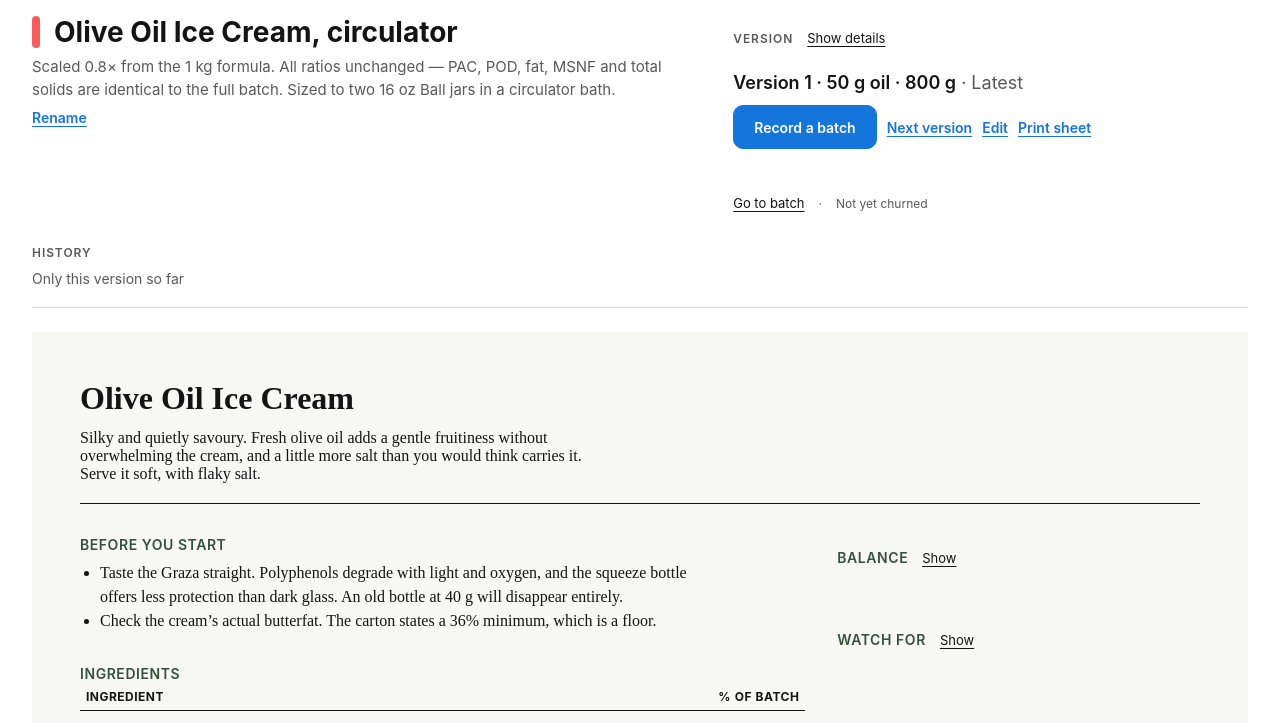
Scenario: a removed step takes its lines with it, struck in its own place (decision 51, plan 05) › strikes the five lines of 'Gum slurry' under Removed, reads 666.0 g, and restores them with the step
Click the button "Next version" at (929, 127), box [887,105,972,149]
(page scrolled)
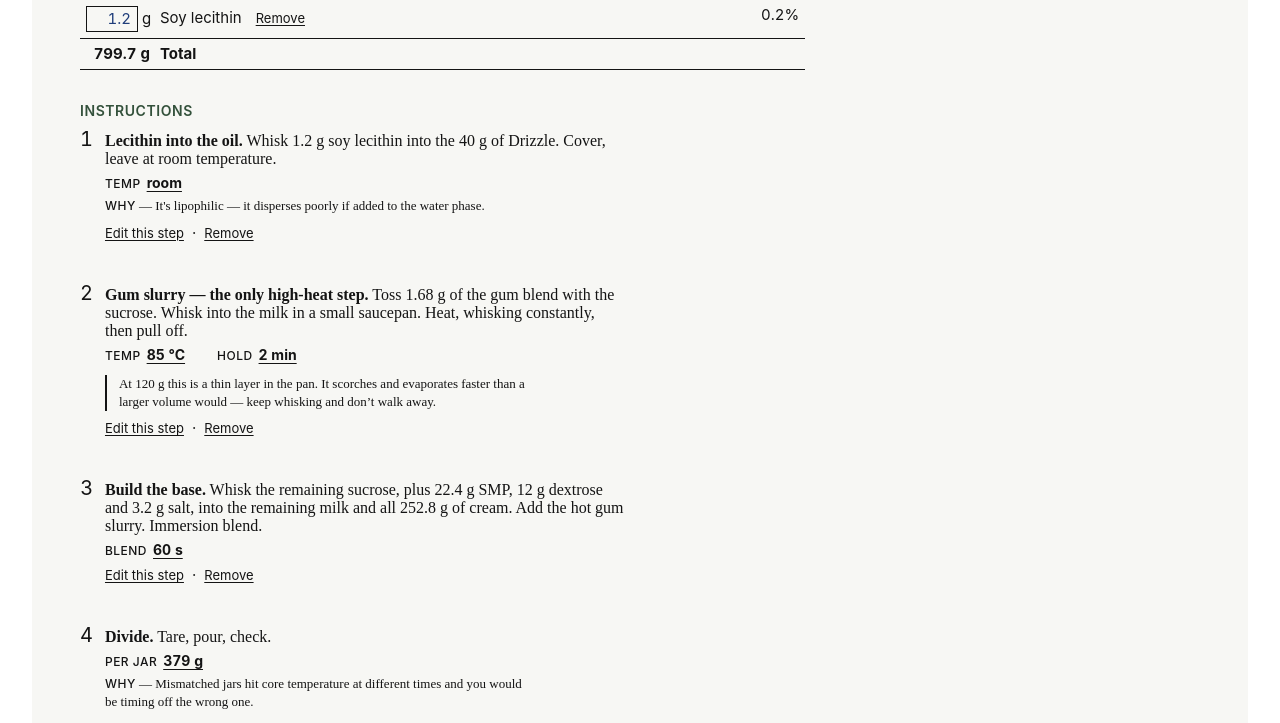
Click the button "Remove" below "85 °C" at (229, 429), box [204,417,254,441]
(page scrolled)
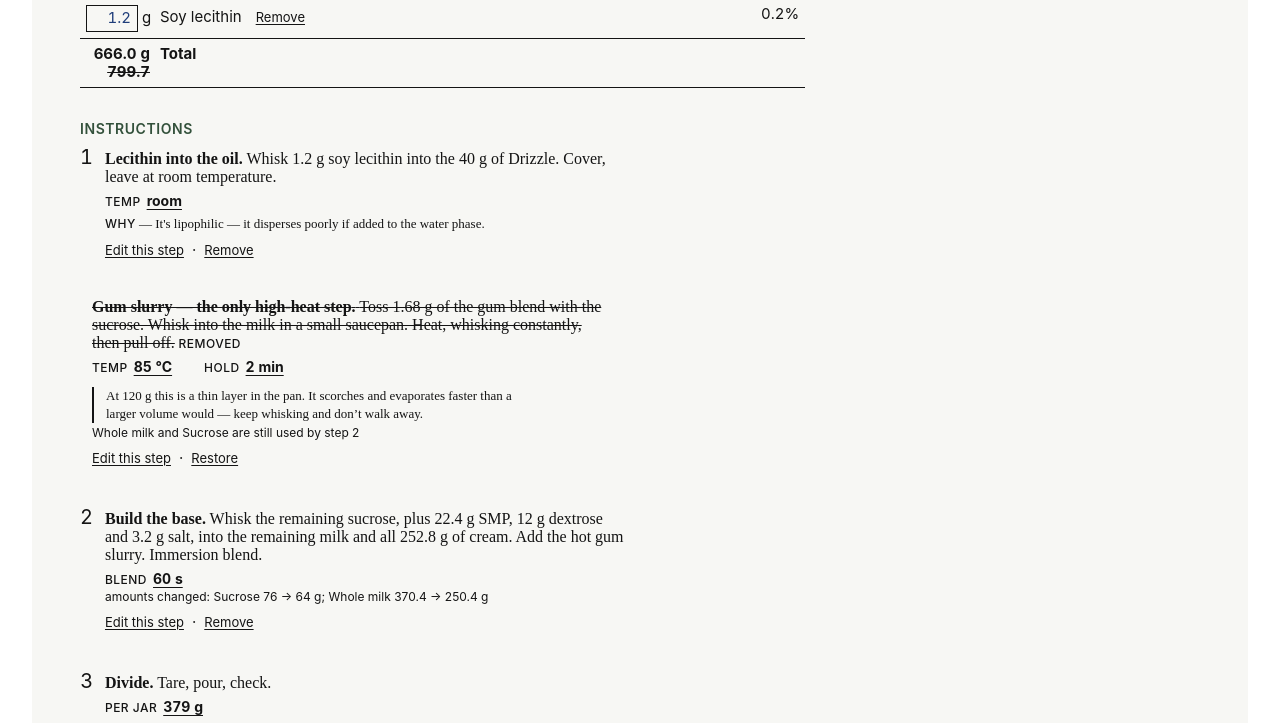
Check: the text with class "method-step__flag" shows "Whole milk", box [92,425,360,440]
Check: the text with class "method-step__flag" shows "Sucrose", box [92,425,360,440]
Check: the text with class "method-step__flag" shows "still used by step 2", box [92,425,360,440]
Click the button "Restore" at (215, 458), box [191,446,238,470]
(page scrolled)
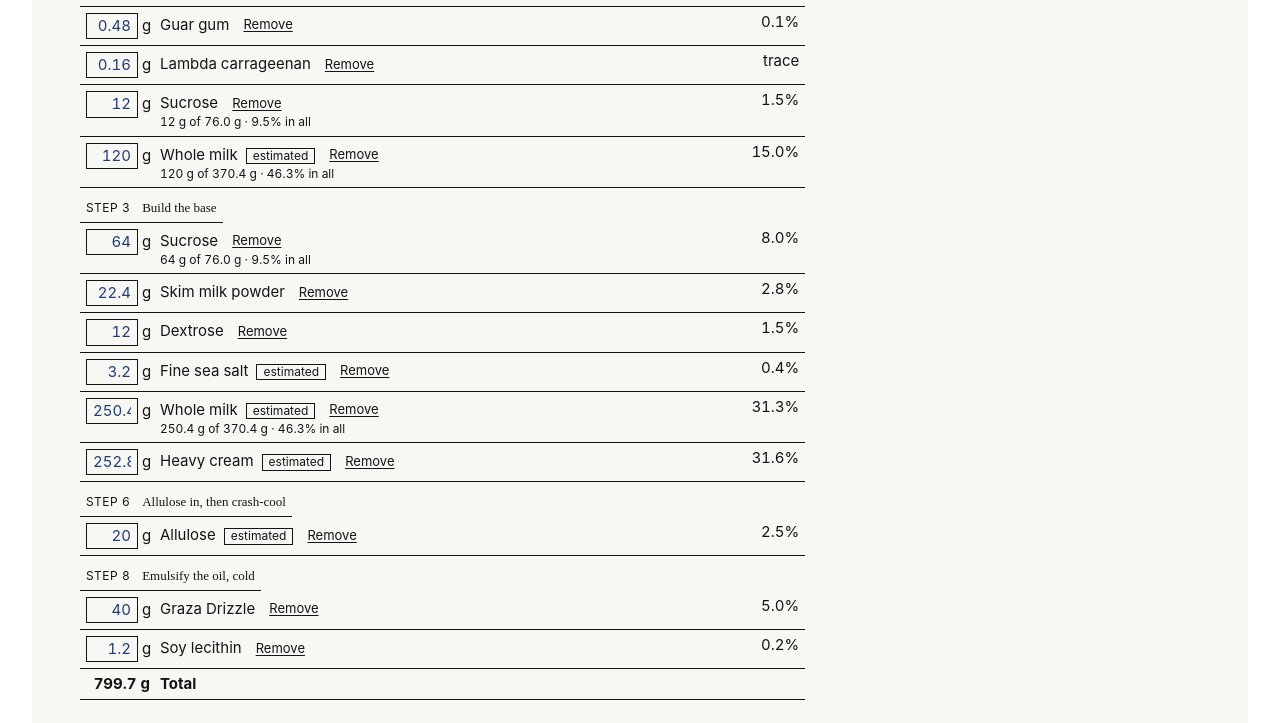
Check: the text with class "ingredient-table__portion-note" reads "120 g of 370.4 g · 46.3% in all", box [160,166,334,181]
Check: the text with class "struck-value" is gone
Check: the text with class "ingredient-table__portion-note" reads "250.4 g of 370.4 g · 46.3% in all", box [160,421,345,436]
